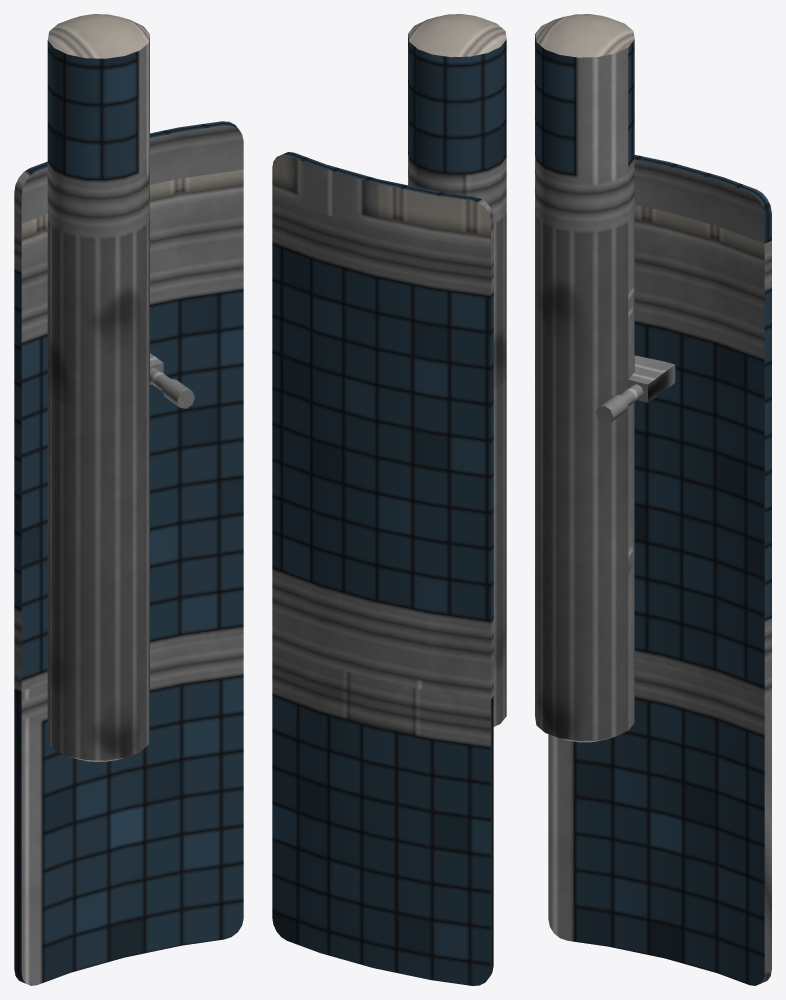
File: single_short_rad_overhang.obj
3 views of the same model, side by side, from view 1: azimuth 30°, elevation 25°; view 2: azimuth 150°, elevation 25°; view 3: azimuth 330°, elevation 25° (orthographic). The views are drawn at different scales.
Parts seen in each view (by area): view 1: 1; view 2: 1; view 3: 1.
Boxes of the visible parts, box(x1,y1,x2,y2) form: 1: box(14, 14, 243, 985); 1: box(272, 14, 506, 985); 1: box(535, 14, 771, 985).
Bounding box in the file's own units: 0.6341 × 2.59 × 0.325.
